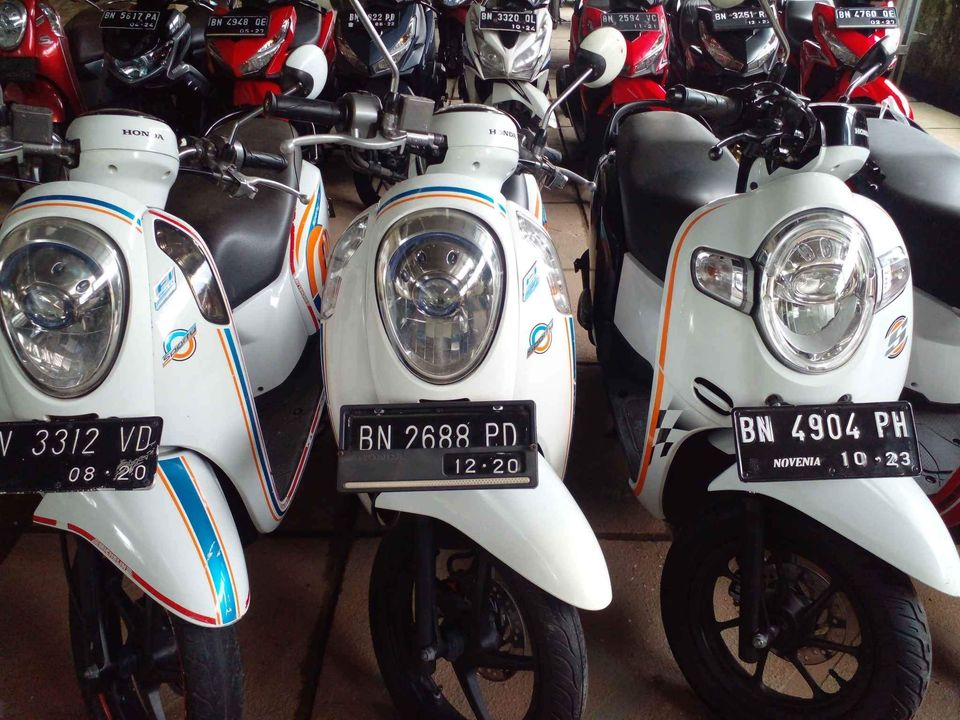plate: (338, 411, 535, 483), (730, 411, 921, 478)
